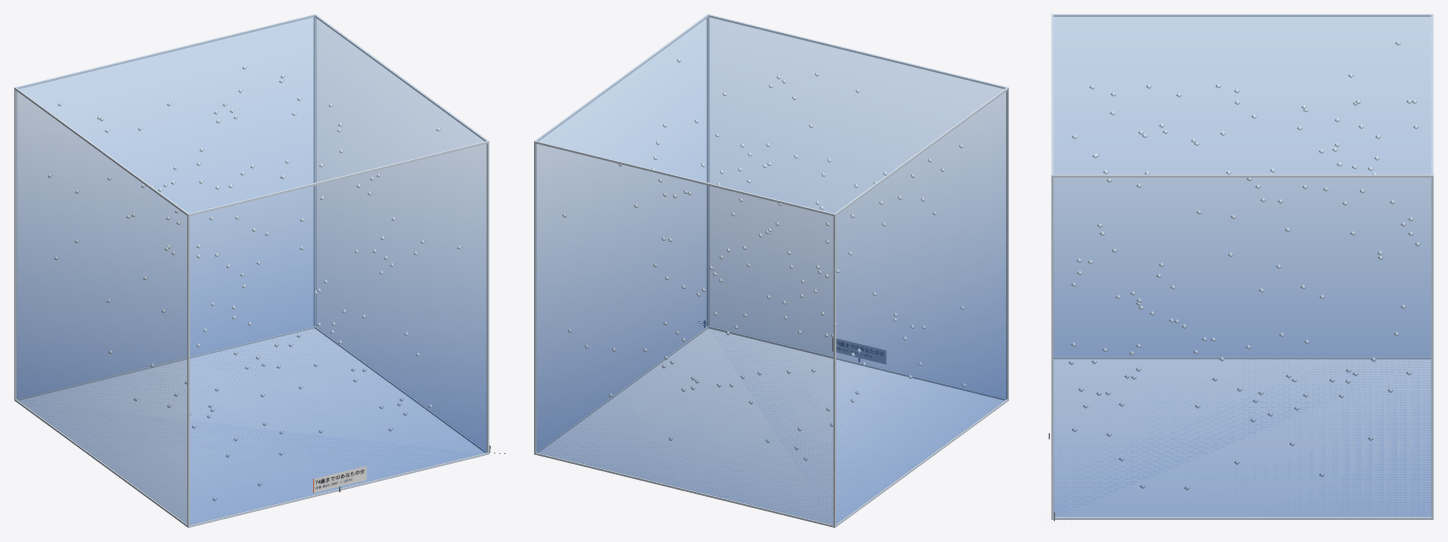
File: cube_life_74.glb
3 renders of one model, left to right at view 1: azimuth 30°, elevation 25°; view 2: azimuth 150°, elevation 25°; view 3: azimuth 270°, elevation 25°, orthographic. The views are drawn at different scales.
Parts seen in each view (by area): view 1: co2, edge, dots, label; view 2: co2, edge, dots, label; view 3: co2, edge, dots.
Part boxes in pixels (x1,y1,x2,y2): co2: (16,15,486,524); edge: (14,14,489,527); dots: (48,65,461,501); label: (313,466,366,492); co2: (536,15,1006,524); edge: (534,14,1008,527); dots: (562,58,966,461); label: (832,338,885,363); co2: (1053,15,1431,516); edge: (1051,14,1433,519); dots: (1068,41,1420,490).
Size of the model in its own units: 70.55 by 66.78 by 69.65.
8 materials, 3 textured.
